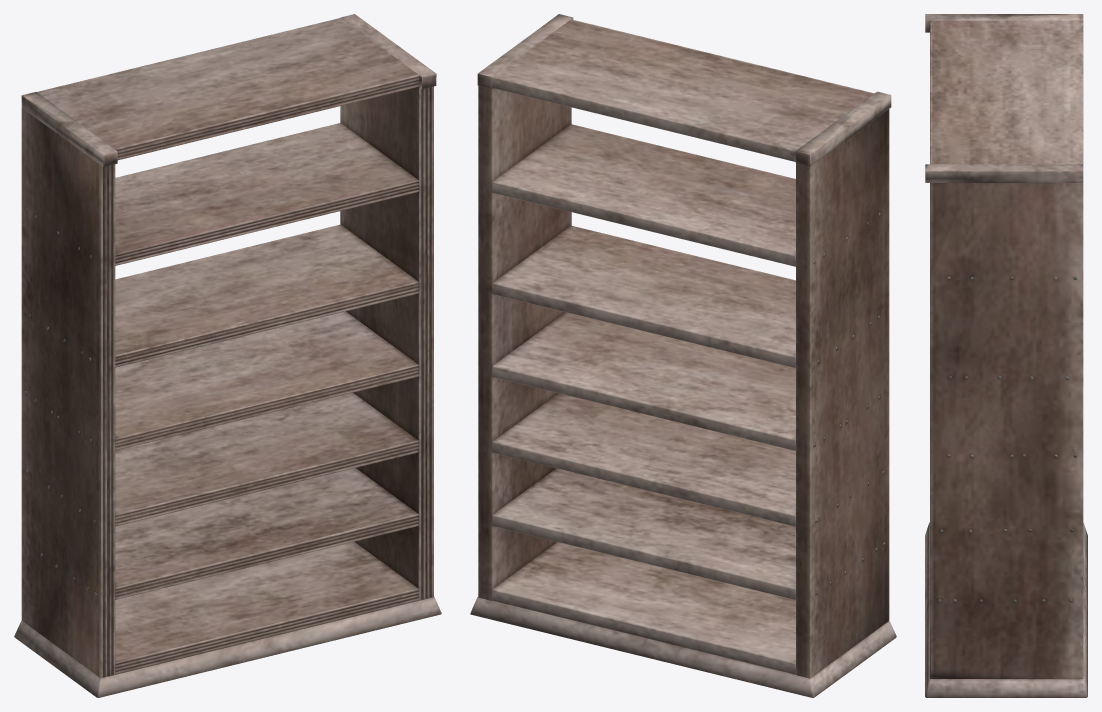
The model's file is wooden_bookshelf_worn.glb.
3 renders of one model, left to right at view 1: azimuth 30°, elevation 25°; view 2: azimuth 150°, elevation 25°; view 3: azimuth 270°, elevation 25°, orthographic. The views are drawn at different scales.
Parts seen in each view (by area): view 1: wooden_bookshelf_worn, wooden_bookshelf_worn_lo; view 2: wooden_bookshelf_worn; view 3: wooden_bookshelf_worn.
Boxes of the visible parts, x1,y1,x2,y2 form: wooden_bookshelf_worn: (14, 14, 441, 697); wooden_bookshelf_worn_lo: (23, 75, 435, 678); wooden_bookshelf_worn: (470, 14, 896, 697); wooden_bookshelf_worn: (925, 14, 1087, 697).
Bounding box in the file's own units: 1.37 × 2.06 × 0.5814.
1 material, 1 textured.
